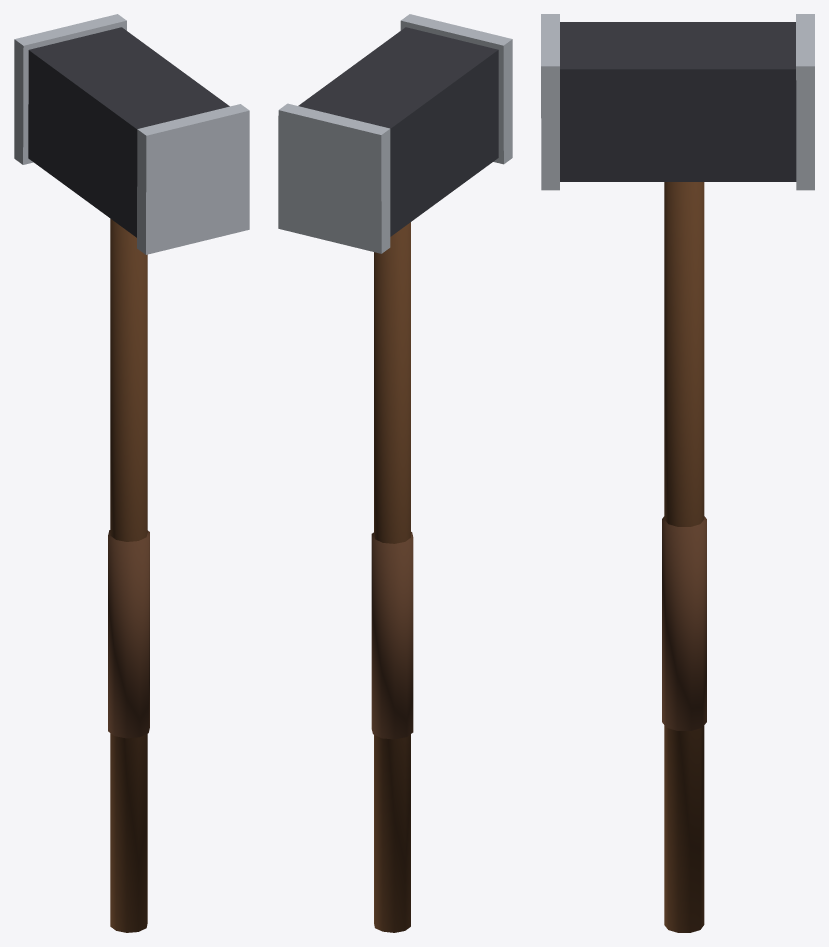
File: hammer.glb
3 views of the same model, side by side, from view 1: azimuth 30°, elevation 25°; view 2: azimuth 150°, elevation 25°; view 3: azimuth 270°, elevation 25° (orthographic). The views are drawn at different scales.
Parts seen in each view (by area): view 1: hammer; view 2: hammer; view 3: hammer.
Part boxes in pixels (<box>): hammer: <box>14,14,249,932</box>; hammer: <box>278,14,512,932</box>; hammer: <box>541,14,814,932</box>.
Size of the model in its own units: 0.1001 by 0.7849 by 0.2202.
